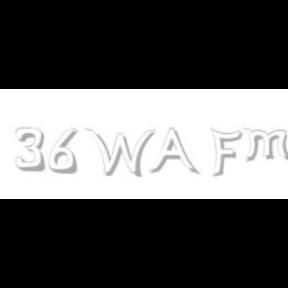3: (16, 128, 46, 172)
6: (48, 128, 78, 176)
A: (149, 128, 197, 176)
F: (210, 128, 242, 178)
W: (84, 128, 156, 178)
